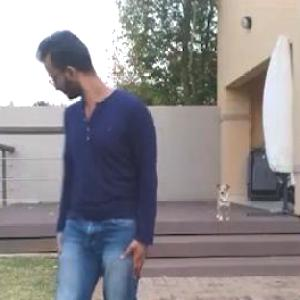follow: (117, 0, 299, 299), (28, 11, 154, 299)
